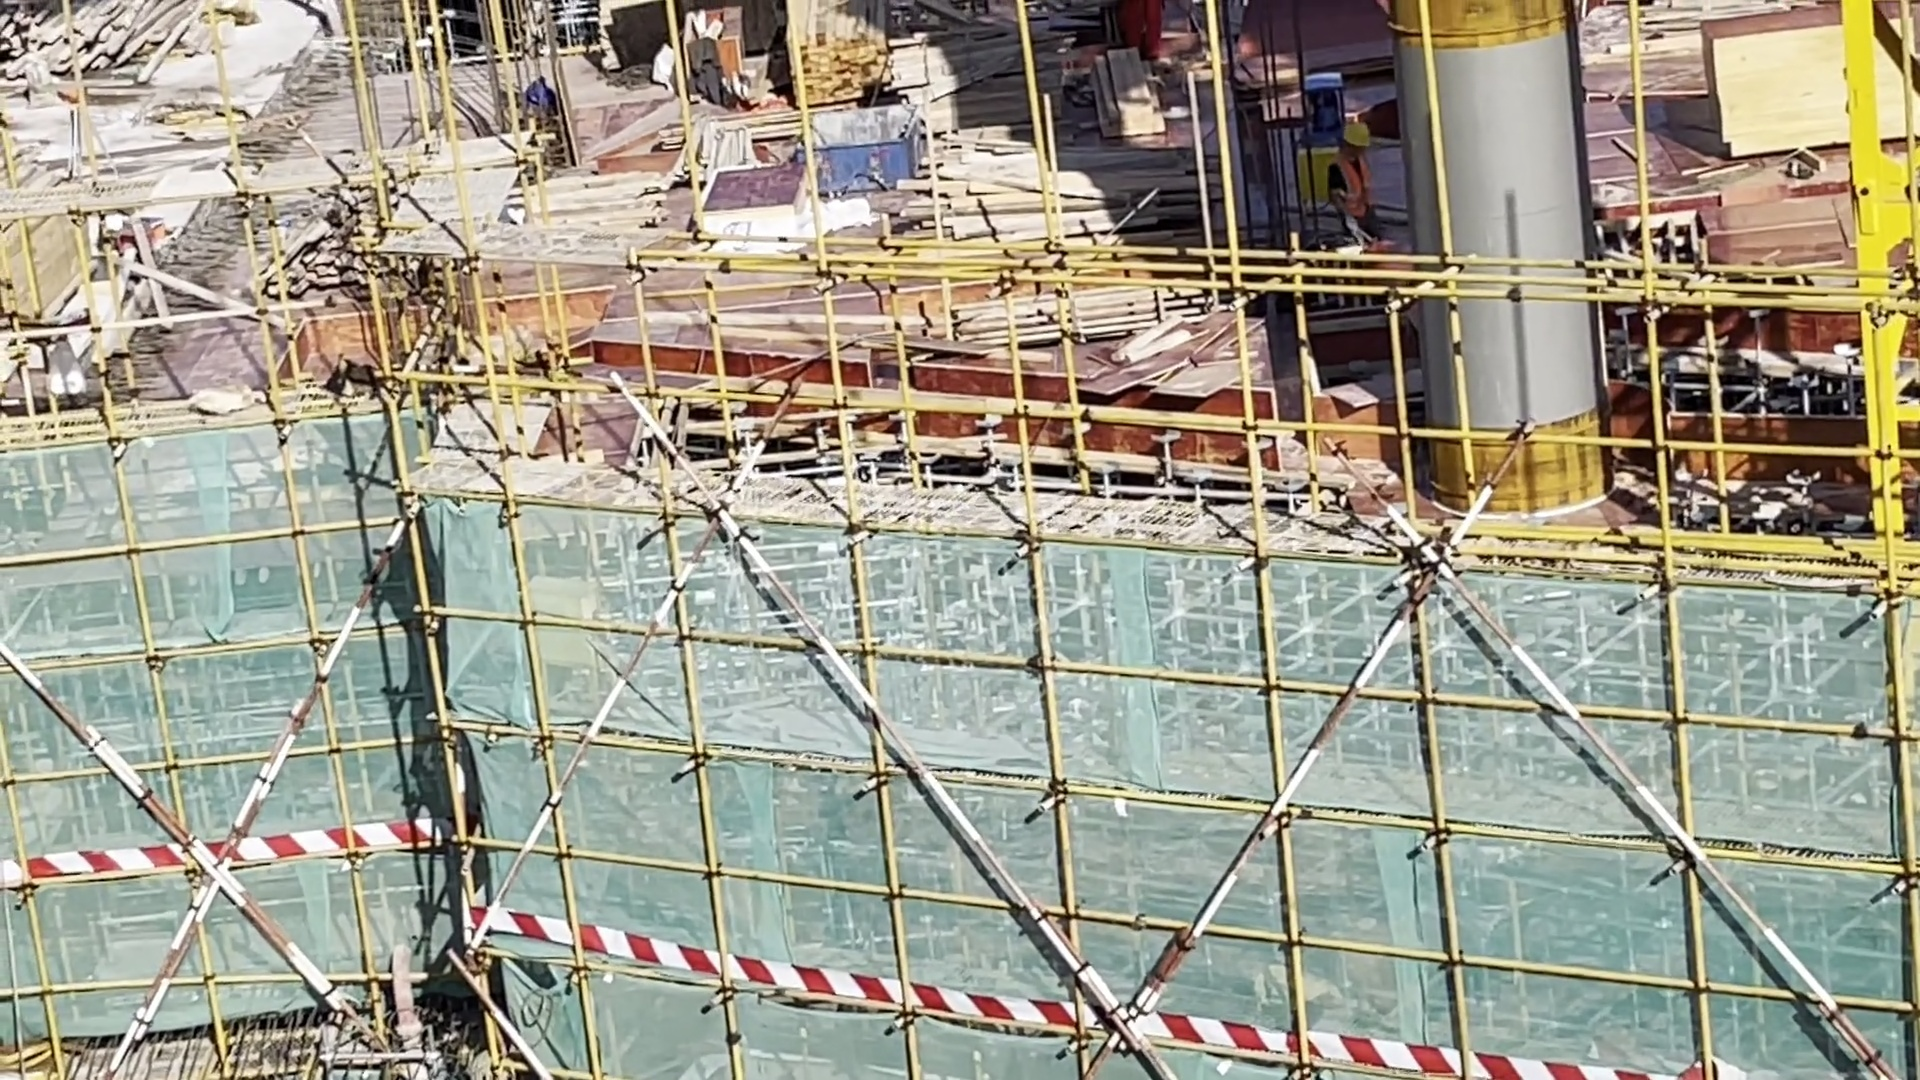board: (1080, 322, 1256, 407)
helmet: (1335, 124, 1378, 161)
hopper: (1648, 370, 1885, 485), (786, 96, 934, 181)
person: (1324, 123, 1381, 241)
vest: (1332, 159, 1372, 218)
wood: (930, 112, 1173, 250), (22, 5, 221, 92), (940, 300, 1178, 341)
